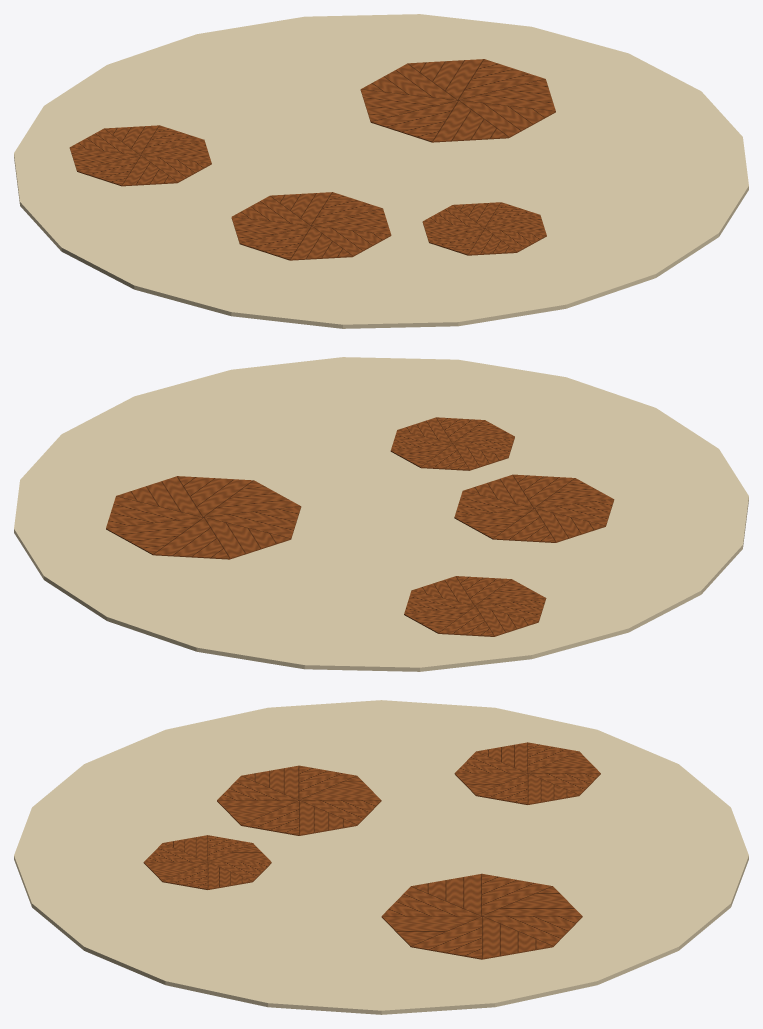
File: travelling-circus-and-big-top-sawdust-ring-floor-b4a211ac__36234.glb
3 views of the same model, one above another, from view 1: azimuth 30°, elevation 25°; view 2: azimuth 150°, elevation 25°; view 3: azimuth 270°, elevation 25° (orthographic).
Parts seen in each view (by area): view 1: sawdust-ring-floor-sawdust, sawdust-ring-floor-timber; view 2: sawdust-ring-floor-sawdust, sawdust-ring-floor-timber; view 3: sawdust-ring-floor-sawdust, sawdust-ring-floor-timber.
Part boxes in pixels (<box>): sawdust-ring-floor-sawdust: <box>14,14,748,328</box>; sawdust-ring-floor-timber: <box>69,59,555,260</box>; sawdust-ring-floor-sawdust: <box>14,357,748,671</box>; sawdust-ring-floor-timber: <box>106,417,614,636</box>; sawdust-ring-floor-sawdust: <box>14,700,748,1014</box>; sawdust-ring-floor-timber: <box>143,742,600,959</box>.
Size of the model in its own units: 8.04 by 0.0622 by 8.04.
Materials: 2 (1 with a texture image).
